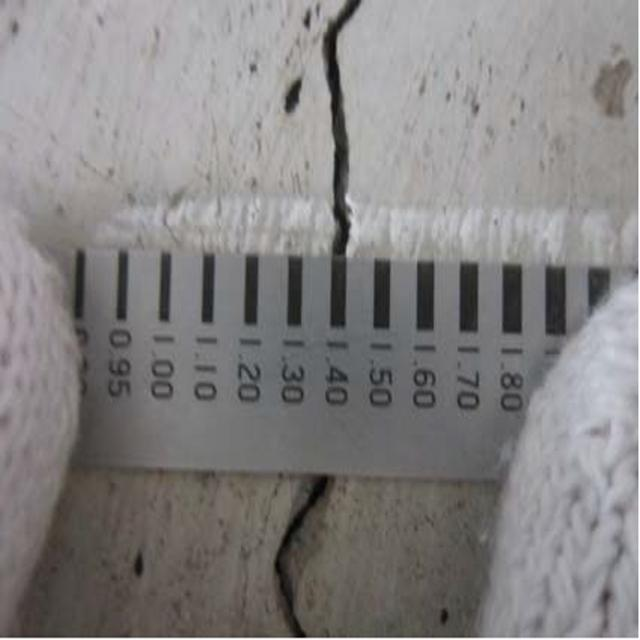crack: (291, 6, 376, 253), (257, 483, 337, 638)
